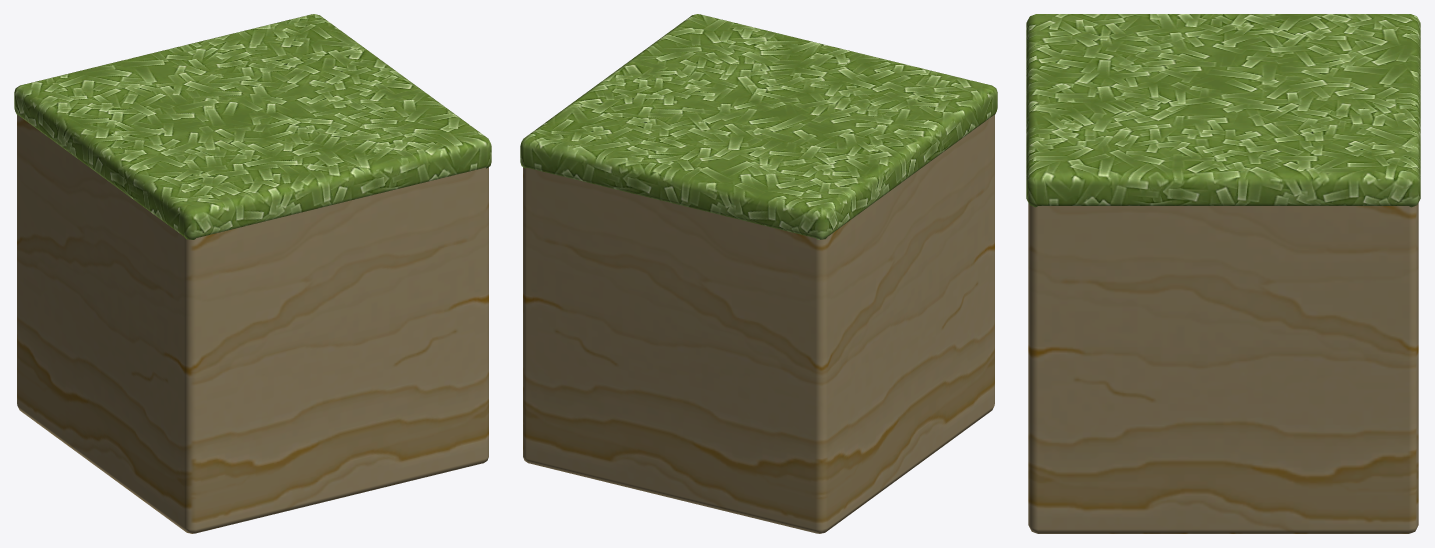
The model's file is SM_Platform_2m_01_C.glb.
3 renders of one model, left to right at view 1: azimuth 30°, elevation 25°; view 2: azimuth 150°, elevation 25°; view 3: azimuth 270°, elevation 25°, orthographic. The views are drawn at different scales.
Parts seen in each view (by area): view 1: SM_Platform_2m_01_C; view 2: SM_Platform_2m_01_C; view 3: SM_Platform_2m_01_C.
Boxes of the visible parts, x1,y1,x2,y2 form: SM_Platform_2m_01_C: (14,14,491,533); SM_Platform_2m_01_C: (520,14,997,533); SM_Platform_2m_01_C: (1026,14,1420,533).
Size of the model in its own units: 2.02 by 2.05 by 2.02.
2 materials, 2 textured.
